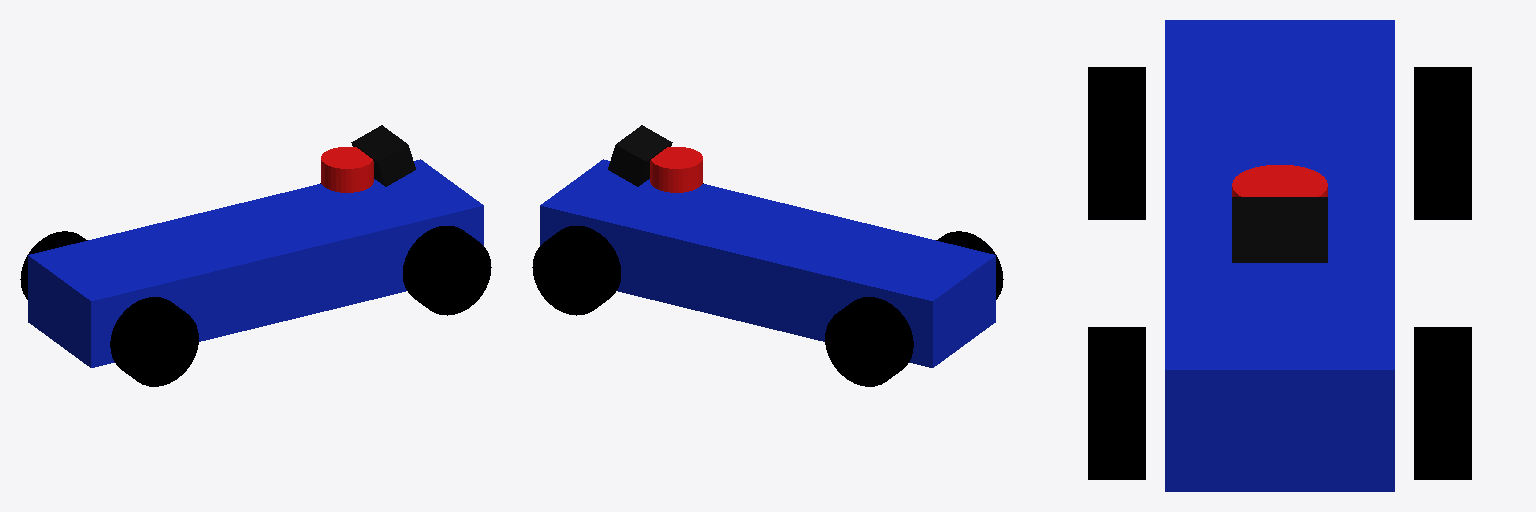
The robot description file, URDF, robot "team03_car":
<?xml version="1.0" ?>
<!-- =================================================================================== -->
<!-- |    This document was autogenerated by xacro from /home/userhansanghun0112/urrc_2/src/team03_race/urdf/car.urdf.xacro | -->
<!-- |    EDITING THIS FILE BY HAND IS NOT RECOMMENDED                                 | -->
<!-- =================================================================================== -->
<robot name="team03_car">
  <link name="base_link"/>
  <link name="chassis">
    <visual>
      <origin rpy="0 0 0" xyz="0 0 0.05"/>
      <geometry>
        <box size="0.43 0.12 0.07"/>
      </geometry>
      <material name="blue">
        <color rgba="0.1 0.2 0.8 1.0"/>
      </material>
    </visual>
    <collision>
      <origin rpy="0 0 0" xyz="0 0 0.05"/>
      <geometry>
        <box size="0.43 0.12 0.07"/>
      </geometry>
    </collision>
    <inertial>
      <mass value="3.0"/>
      <inertia ixx="0.01" ixy="0" ixz="0" iyy="0.04" iyz="0" izz="0.04"/>
    </inertial>
  </link>
  <joint name="chassis_joint" type="fixed">
    <parent link="base_link"/>
    <child link="chassis"/>
    <origin rpy="0 0 0" xyz="0 0 0.02"/>
  </joint>
  <!-- Left Front Wheel & Steer -->
  <link name="fl_steer">
    <inertial>
      <mass value="0.1"/>
      <inertia ixx="0.0001" ixy="0" ixz="0" iyy="0.0001" iyz="0" izz="0.0001"/>
    </inertial>
  </link>
  <joint name="front_left_steer_joint" type="revolute">
    <parent link="chassis"/>
    <child link="fl_steer"/>
    <origin rpy="0 0 0" xyz="0.16 0.085 0.04"/>
    <axis xyz="0 0 1"/>
    <limit effort="10.0" lower="-0.52" upper="0.52" velocity="5.0"/>
  </joint>
  <link name="fl_wheel">
    <visual>
      <origin rpy="1.5707 0 0" xyz="0 0 0"/>
      <geometry>
        <cylinder length="0.03" radius="0.04"/>
      </geometry>
      <material name="black">
        <color rgba="0 0 0 1"/>
      </material>
    </visual>
    <collision>
      <origin rpy="1.5707 0 0" xyz="0 0 0"/>
      <geometry>
        <cylinder length="0.03" radius="0.04"/>
      </geometry>
    </collision>
    <inertial>
      <mass value="0.3"/>
      <inertia ixx="0.0002" ixy="0" ixz="0" iyy="0.0002" iyz="0" izz="0.0002"/>
    </inertial>
  </link>
  <joint name="front_left_wheel_joint" type="continuous">
    <parent link="fl_steer"/>
    <child link="fl_wheel"/>
    <origin rpy="0 0 0" xyz="0 0 0"/>
    <axis xyz="0 1 0"/>
  </joint>
  <!-- Right Front Wheel & Steer -->
  <link name="fr_steer">
    <inertial>
      <mass value="0.1"/>
      <inertia ixx="0.0001" ixy="0" ixz="0" iyy="0.0001" iyz="0" izz="0.0001"/>
    </inertial>
  </link>
  <joint name="front_right_steer_joint" type="revolute">
    <parent link="chassis"/>
    <child link="fr_steer"/>
    <origin rpy="0 0 0" xyz="0.16 -0.085 0.04"/>
    <axis xyz="0 0 1"/>
    <limit effort="10.0" lower="-0.52" upper="0.52" velocity="5.0"/>
  </joint>
  <link name="fr_wheel">
    <visual>
      <origin rpy="1.5707 0 0" xyz="0 0 0"/>
      <geometry>
        <cylinder length="0.03" radius="0.04"/>
      </geometry>
      <material name="black">
        <color rgba="0 0 0 1"/>
      </material>
    </visual>
    <collision>
      <origin rpy="1.5707 0 0" xyz="0 0 0"/>
      <geometry>
        <cylinder length="0.03" radius="0.04"/>
      </geometry>
    </collision>
    <inertial>
      <mass value="0.3"/>
      <inertia ixx="0.0002" ixy="0" ixz="0" iyy="0.0002" iyz="0" izz="0.0002"/>
    </inertial>
  </link>
  <joint name="front_right_wheel_joint" type="continuous">
    <parent link="fr_steer"/>
    <child link="fr_wheel"/>
    <origin rpy="0 0 0" xyz="0 0 0"/>
    <axis xyz="0 1 0"/>
  </joint>
  <!-- Rear Wheels -->
  <link name="rl_wheel">
    <visual>
      <origin rpy="1.5707 0 0" xyz="0 0 0"/>
      <geometry>
        <cylinder length="0.03" radius="0.04"/>
      </geometry>
      <material name="black">
        <color rgba="0 0 0 1"/>
      </material>
    </visual>
    <collision>
      <origin rpy="1.5707 0 0" xyz="0 0 0"/>
      <geometry>
        <cylinder length="0.03" radius="0.04"/>
      </geometry>
    </collision>
    <inertial>
      <mass value="0.3"/>
      <inertia ixx="0.0002" ixy="0" ixz="0" iyy="0.0002" iyz="0" izz="0.0002"/>
    </inertial>
  </link>
  <joint name="rear_left_wheel_joint" type="continuous">
    <parent link="chassis"/>
    <child link="rl_wheel"/>
    <origin rpy="0 0 0" xyz="-0.16 0.085 0.04"/>
    <axis xyz="0 1 0"/>
  </joint>
  <link name="rr_wheel">
    <visual>
      <origin rpy="1.5707 0 0" xyz="0 0 0"/>
      <geometry>
        <cylinder length="0.03" radius="0.04"/>
      </geometry>
      <material name="black">
        <color rgba="0 0 0 1"/>
      </material>
    </visual>
    <collision>
      <origin rpy="1.5707 0 0" xyz="0 0 0"/>
      <geometry>
        <cylinder length="0.03" radius="0.04"/>
      </geometry>
    </collision>
    <inertial>
      <mass value="0.3"/>
      <inertia ixx="0.0002" ixy="0" ixz="0" iyy="0.0002" iyz="0" izz="0.0002"/>
    </inertial>
  </link>
  <joint name="rear_right_wheel_joint" type="continuous">
    <parent link="chassis"/>
    <child link="rr_wheel"/>
    <origin rpy="0 0 0" xyz="-0.16 -0.085 0.04"/>
    <axis xyz="0 1 0"/>
  </joint>
  <link name="laser_frame">
    <visual>
      <geometry>
        <cylinder length="0.025" radius="0.025"/>
      </geometry>
      <material name="red">
        <color rgba="0.9 0.1 0.1 1"/>
      </material>
    </visual>
    <collision>
      <geometry>
        <cylinder length="0.025" radius="0.025"/>
      </geometry>
    </collision>
    <inertial>
      <mass value="0.05"/>
      <inertia ixx="0.00001" ixy="0" ixz="0" iyy="0.00001" iyz="0" izz="0.000015"/>
    </inertial>
  </link>
  <joint name="laser_joint" type="fixed">
    <parent link="chassis"/>
    <child link="laser_frame"/>
    <!-- z를 0.10에서 0.125로 올려 차체 위로 완전히 노출시킴 -->
    <origin rpy="0 0 0" xyz="0.10 0 0.125"/>
  </joint>
  <gazebo reference="laser_frame">
    <sensor name="team03_lidar" type="gpu_lidar">
      <gz_frame_id>team03/laser_frame</gz_frame_id>
      <topic>/team03/scan_03</topic>
      <update_rate>10</update_rate>
      <ray>
        <scan>
          max_velocit
            
          <horizontal>
            <samples>360</samples>
            <resolution>1</resolution>
            <min_angle>-3.141592</min_angle>
            <max_angle>3.141592</max_angle>
          </horizontal>
        </scan>
        <range>
          <!-- 최소 거리를 0.05m로 완화 -->
          <min>0.05</min>
          <max>15.0</max>
        </range>
      </ray>
      <always_on>1</always_on>
      <visualize>false</visualize>
    </sensor>
  </gazebo>
  <!-- Gazebo Ackermann Control Plugin -->
  <gazebo>
    <plugin filename="gz-sim-ackermann-steering-system" name="gz::sim::systems::AckermannSteering">
      <left_joint>rear_left_wheel_joint</left_joint>
      <right_joint>rear_right_wheel_joint</right_joint>
      <left_steering_joint>front_left_steer_joint</left_steering_joint>
      <right_steering_joint>front_right_steer_joint</right_steering_joint>
      <wheel_base>0.32</wheel_base>
      <wheel_separation>0.17</wheel_separation>
      <wheel_radius>0.04</wheel_radius>
      <steering_limit>0.5235987756</steering_limit>
      <steer_p_gain>10</steer_p_gain>
      <min_velocity>-1.0</min_velocity>
      <max_velocity>4.5</max_velocity>
      <topic>/team03/cmd_vel_03</topic>
      <odom_topic>/team03/odom_03</odom_topic>
      <tf_topic>/team03/tf_03</tf_topic>
      <frame_id>team03/odom</frame_id>
      <child_frame_id>team03/base_link</child_frame_id>
      <odom_publish_frequency>50</odom_publish_frequency>
    </plugin>
    <plugin filename="gz-sim-joint-state-publisher-system" name="gz::sim::systems::JointStatePublisher">
      <topic>/team03/joint_states_03</topic>
    </plugin>
  </gazebo>
  <!-- URRC Stage 1: non-physical IMU on existing chassis -->
  <gazebo reference="chassis">
    <sensor name="team03_imu" type="imu">
      <always_on>1</always_on>
      <update_rate>100</update_rate>
      <visualize>false</visualize>
      <topic>/team03/imu_03</topic>
      <gz_frame_id>chassis</gz_frame_id>
    </sensor>
  </gazebo>

    <link name="camera_link">
      <visual>
        <geometry><box size="0.035 0.05 0.03"/></geometry>
        <material name="dark"><color rgba="0.08 0.08 0.08 1"/></material>
      </visual>
      <collision>
        <geometry><box size="0.035 0.05 0.03"/></geometry>
      </collision>
      <inertial>
        <mass value="0.04"/>
        <inertia ixx="0.000012" iyy="0.000008" izz="0.000013" ixy="0" ixz="0" iyz="0"/>
      </inertial>
    </link>

    <!-- 신호등 판독을 위해 카메라를 위쪽으로 약 17도(-0.30 rad) 틸트 -->
    <joint name="camera_joint" type="fixed">
      <parent link="base_link"/>
      <child link="camera_link"/>
      <origin xyz="0.14 0 0.15" rpy="0 -0.30 0"/>
    </joint>

    <gazebo reference="camera_link">
      <sensor name="front_camera" type="camera">
        <always_on>true</always_on>
        <update_rate>10</update_rate>
        <topic>/team03/camera/image_03</topic>
        <gz_frame_id>team03/camera_link</gz_frame_id>
        <camera>
          <horizontal_fov>1.0472</horizontal_fov>
          <image>
            <width>640</width>
            <height>480</height>
            <format>R8G8B8</format>
          </image>
          <clip>
            <near>0.05</near>
            <far>30.0</far>
          </clip>
        </camera>
      </sensor>
    </gazebo>
  
</robot>

--- What the picture shows (computed from the rendered views, not written in the file) ---
3 views of the same robot in one strip: view 1: azimuth 30°, elevation 25°; view 2: azimuth 150°, elevation 25°; view 3: azimuth 270°, elevation 25° (orthographic).
Model team03_car with 10 links and 9 joints (2 revolute, 4 continuous, 3 fixed), rooted at base_link, posed every joint at zero.
Visible links, largest first — view 1: chassis, rr_wheel, fr_wheel, camera_link, laser_frame, rl_wheel; view 2: chassis, rl_wheel, fl_wheel, camera_link, laser_frame, rr_wheel; view 3: chassis, fl_wheel, fr_wheel, rl_wheel, rr_wheel, camera_link, laser_frame.
Link boxes in pixels (box(x1,y1,x2,y2)): chassis: box(28, 159, 483, 367); rr_wheel: box(110, 297, 198, 386); fr_wheel: box(403, 226, 491, 315); camera_link: box(351, 125, 415, 186); laser_frame: box(321, 147, 373, 192); rl_wheel: box(20, 231, 87, 299); chassis: box(540, 159, 995, 367); rl_wheel: box(825, 297, 913, 386); fl_wheel: box(532, 226, 620, 315); camera_link: box(608, 125, 672, 186); laser_frame: box(650, 147, 702, 192); rr_wheel: box(936, 231, 1003, 299); chassis: box(1165, 20, 1394, 491); fl_wheel: box(1414, 327, 1471, 479); fr_wheel: box(1088, 327, 1145, 479); rl_wheel: box(1414, 67, 1471, 219); rr_wheel: box(1088, 67, 1145, 219); camera_link: box(1232, 197, 1327, 262); laser_frame: box(1232, 165, 1327, 196).
Bounding box of the posed robot: 0.43 × 0.2 × 0.1495 m (x, y, z).
Geometry: primitives only (box / cylinder / sphere), no mesh files.
